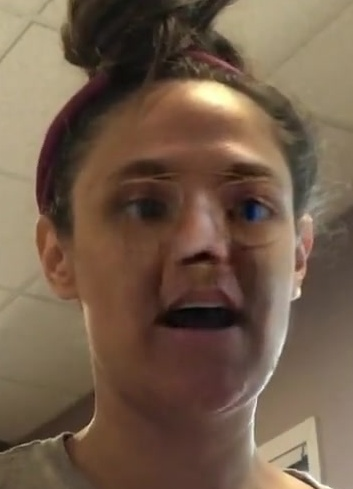n_f: (169, 186, 229, 271)
